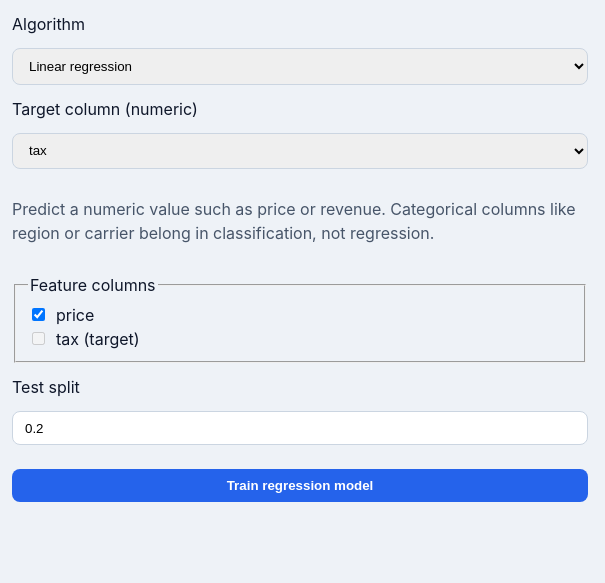
it: RegressionForm › blocks submit when no feature columns are selected
Click the checkbox labelled "price": {"x": 38, "y": 315} [32,308,45,321]
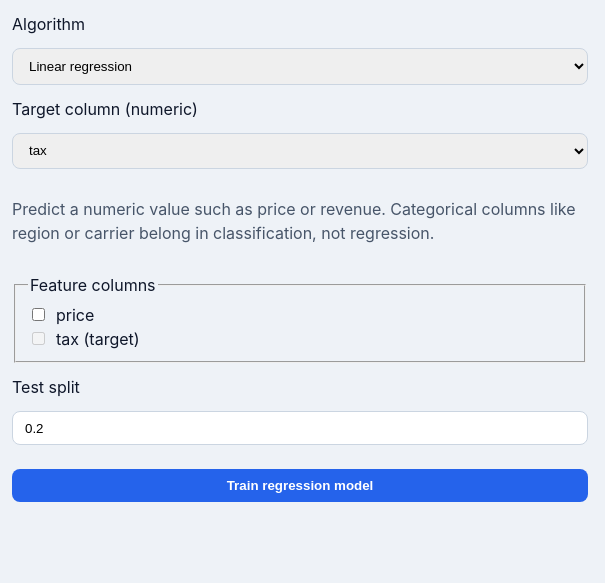
Click the button "Train regression model": {"x": 300, "y": 486} [12,469,588,502]
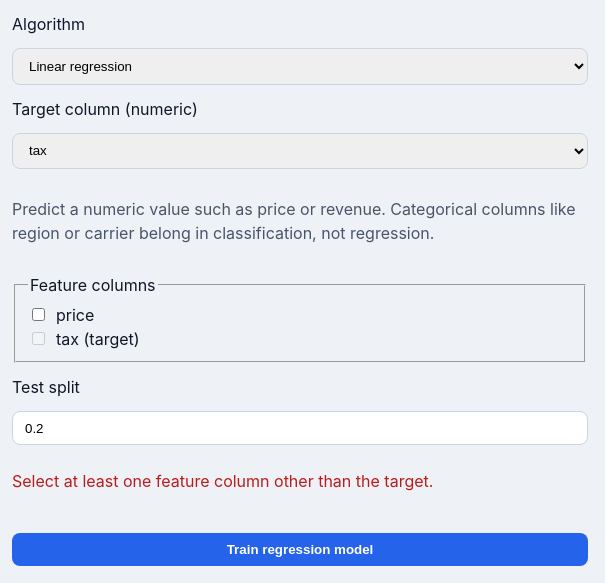
Now the text "Select at least one feature column other than the target." is shown, box [12,471,433,491]
